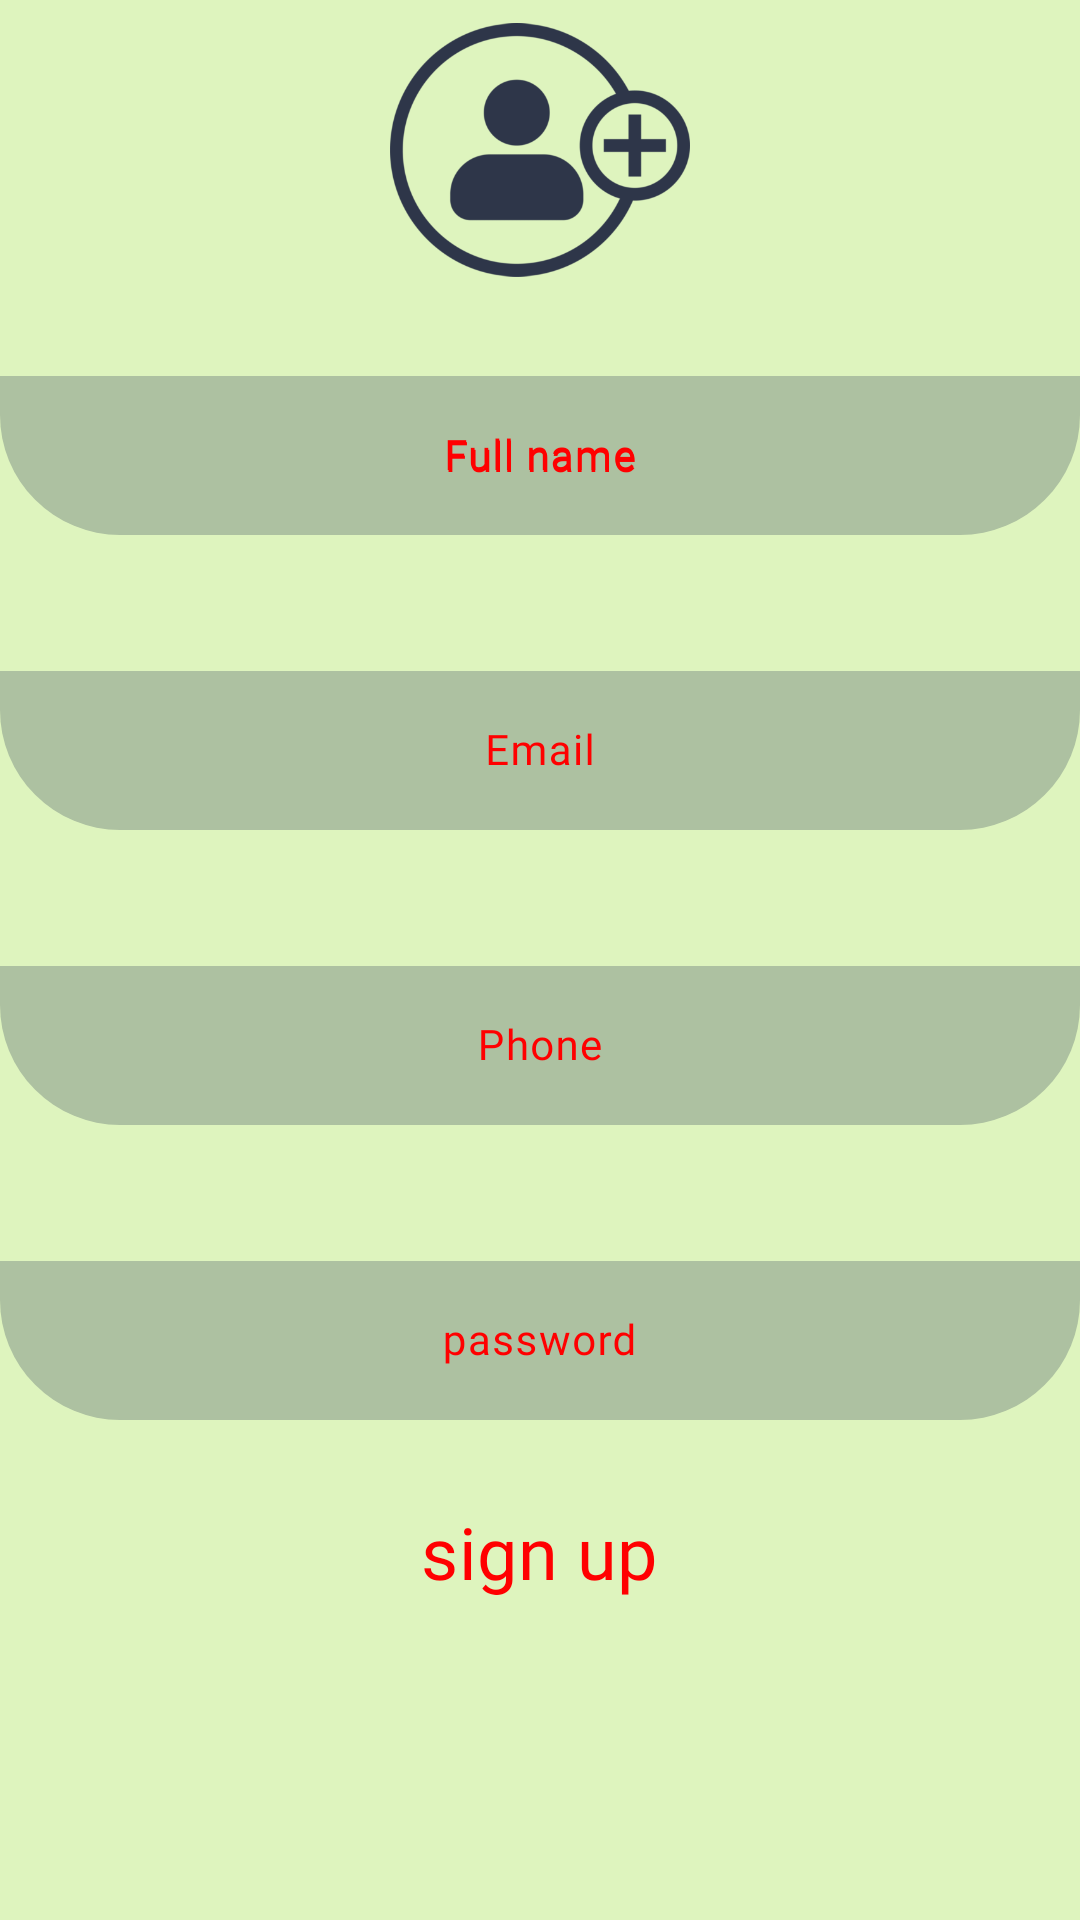

Where icons sit on this 1080×1920 app screen, as [x1, y1, x2, y2]:
updateimg: [390, 23, 690, 277]
